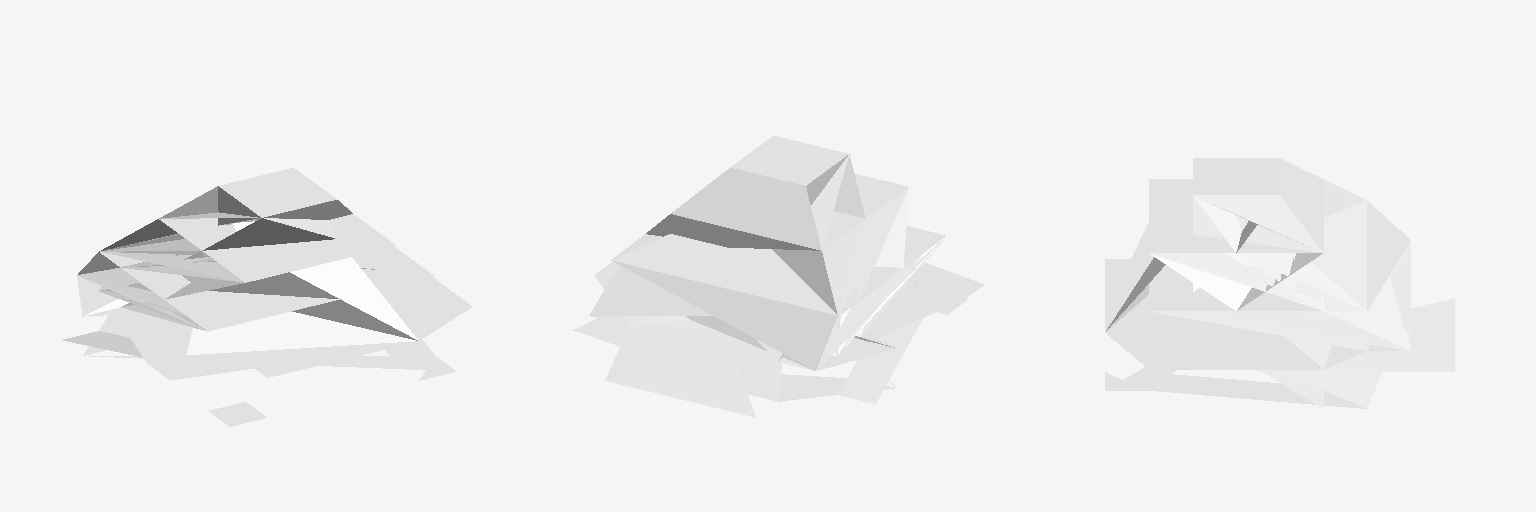
The model's file is chr_jp.obj.
3 renders of one model, left to right at view 1: azimuth 30°, elevation 25°; view 2: azimuth 150°, elevation 25°; view 3: azimuth 270°, elevation 25°, orthographic.
Size of the model in its own units: 8 by 4 by 8.